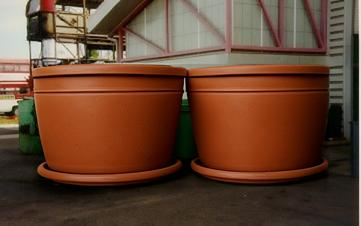pottedplant: (33, 64, 328, 186)
